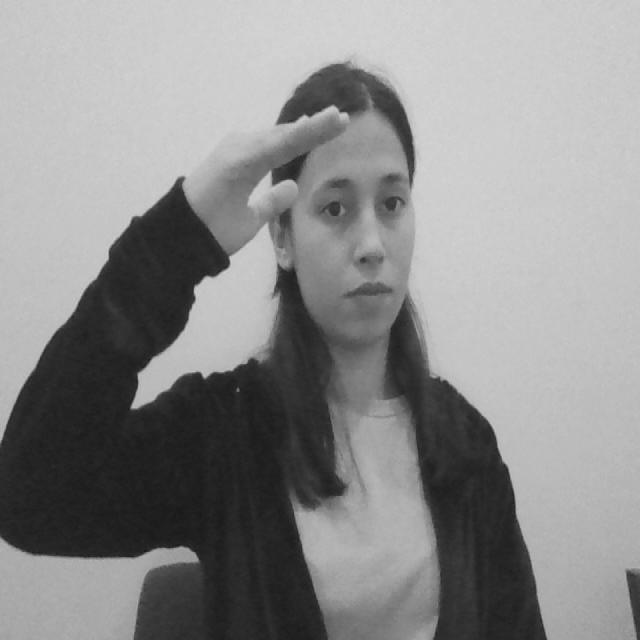Merhaba: (192, 92, 366, 318)
